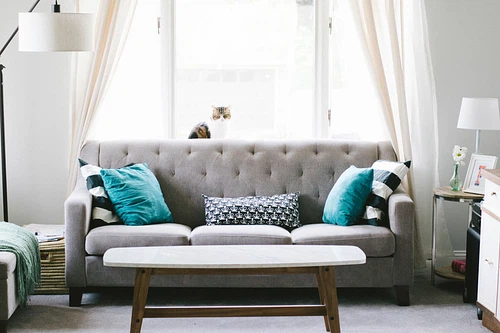floor lamp: (0, 9, 92, 222)
flower vase: (445, 143, 469, 192)
sofa: (62, 137, 417, 308)
table: (102, 244, 368, 333)
table lamp: (455, 94, 500, 153)
